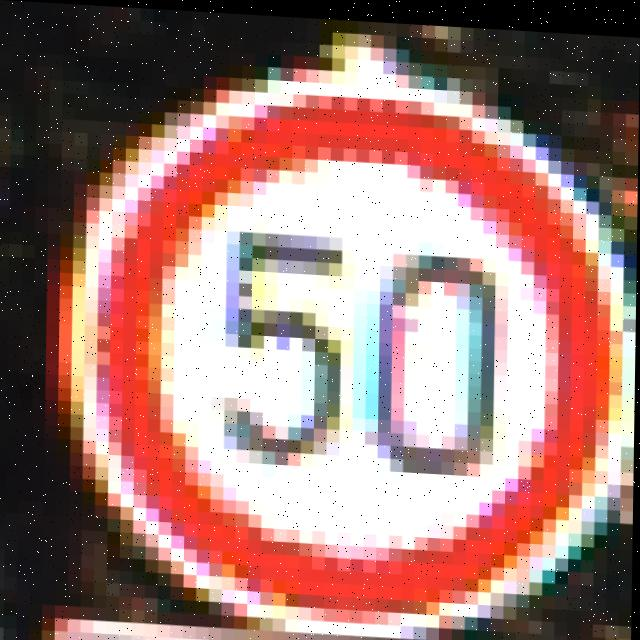speed_limit_50: (55, 55, 639, 640)
